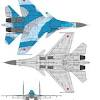maybay_muctieu: (5, 35, 92, 94), (1, 1, 84, 51)
